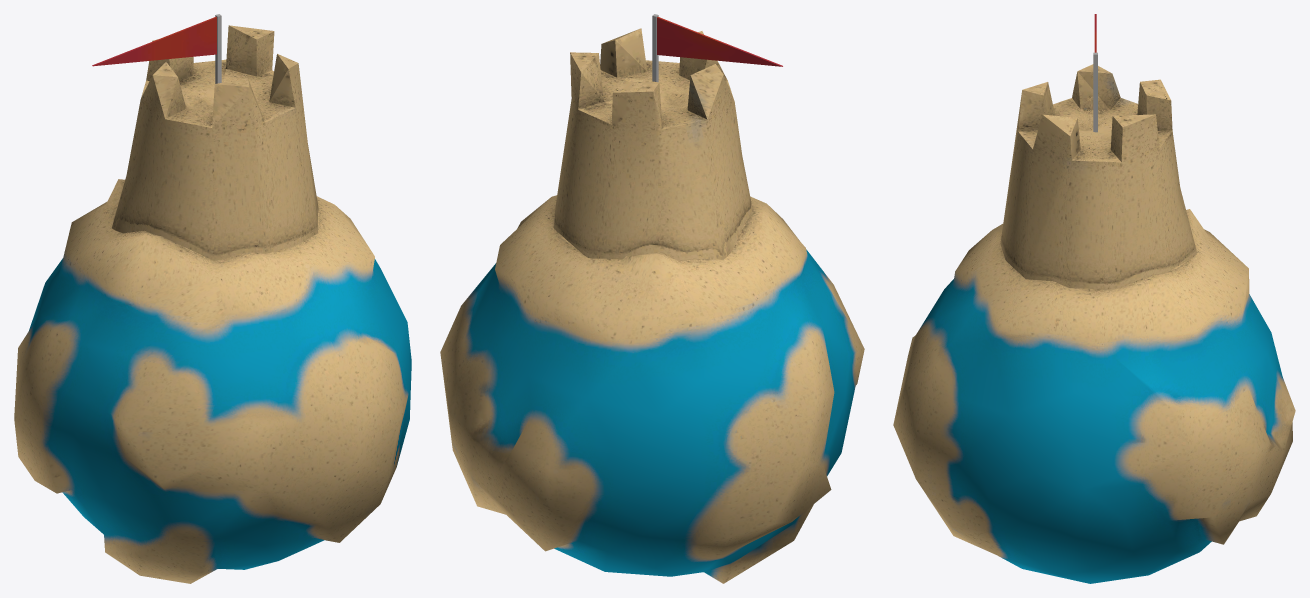
Rendered from easterEgg.fbx.
3 views of the same model, side by side, from view 1: azimuth 30°, elevation 25°; view 2: azimuth 150°, elevation 25°; view 3: azimuth 270°, elevation 25° (orthographic). The views are drawn at different scales.
Visible parts, largest first — view 1: spaceShooterEasterEgg; view 2: spaceShooterEasterEgg; view 3: spaceShooterEasterEgg.
Part boxes in pixels (<box>): spaceShooterEasterEgg: <box>14,14,411,583</box>; spaceShooterEasterEgg: <box>440,14,864,583</box>; spaceShooterEasterEgg: <box>893,14,1295,583</box>.
Size of the model in its own units: 1.23 by 1.84 by 1.31.
Materials: 1 (1 with a texture image).
